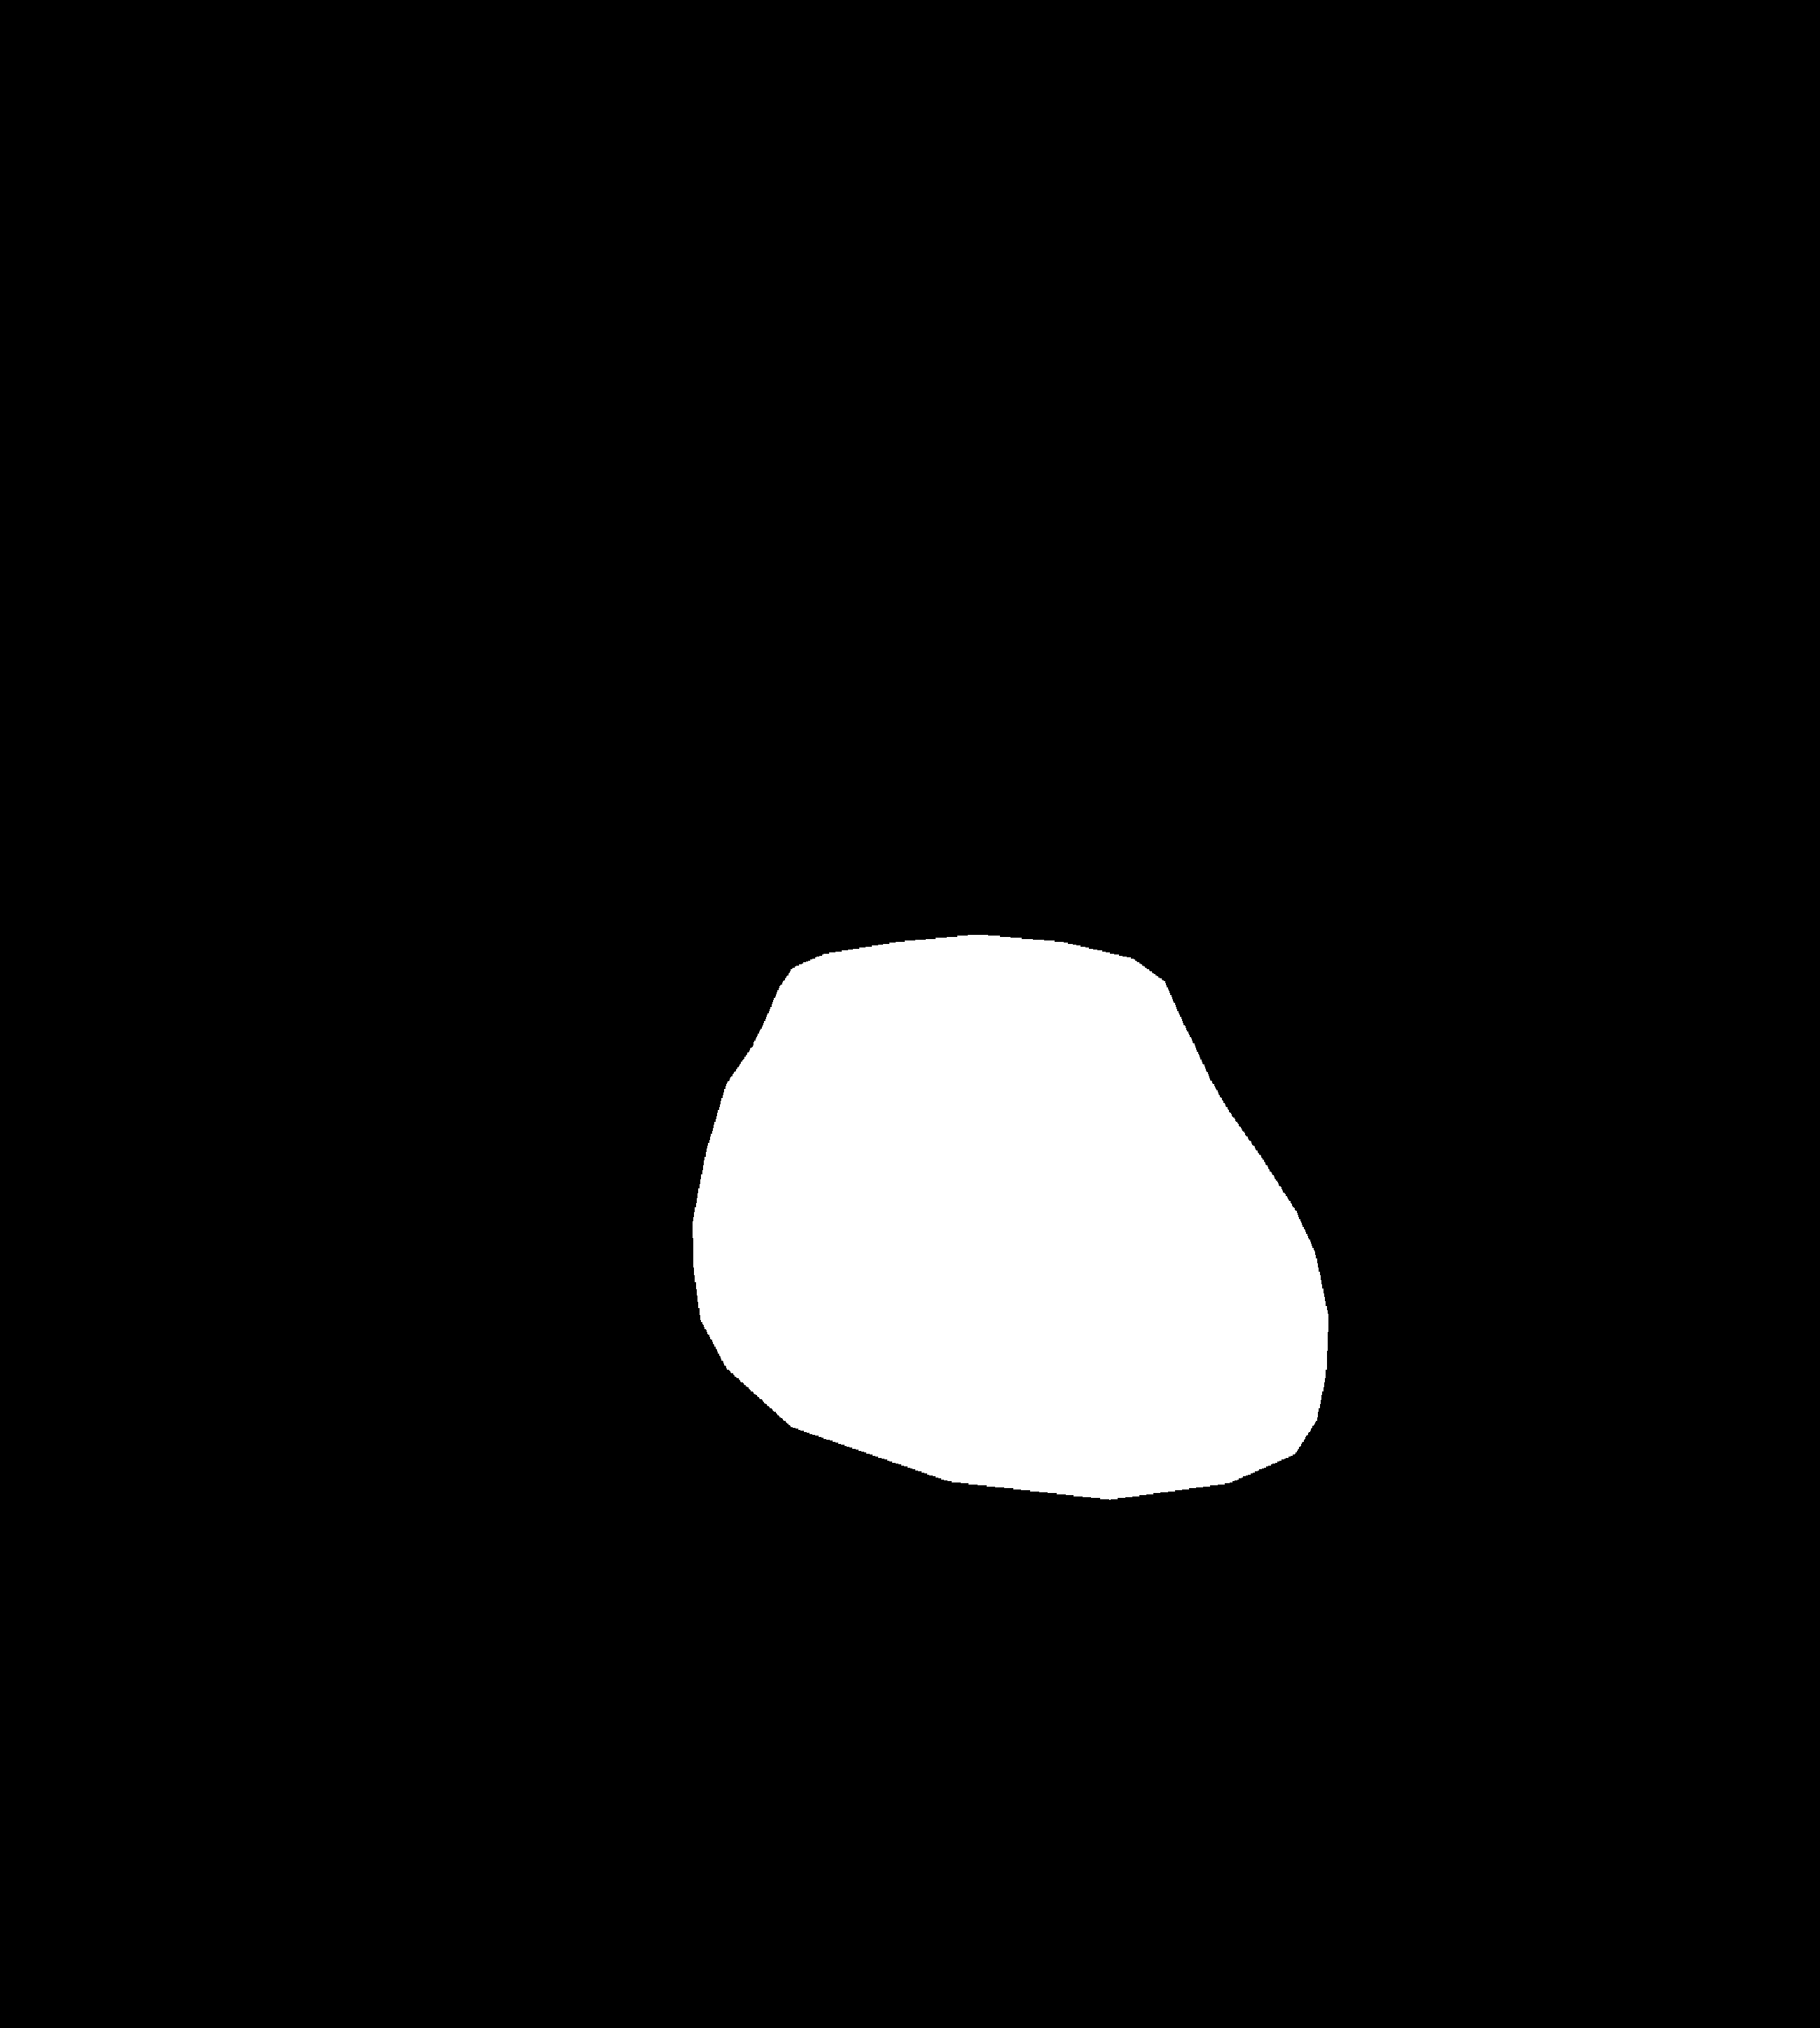heart: (694, 1012, 1337, 1596)
left_lung: (227, 235, 892, 1742)
right_lung: (1005, 206, 1571, 1661)
